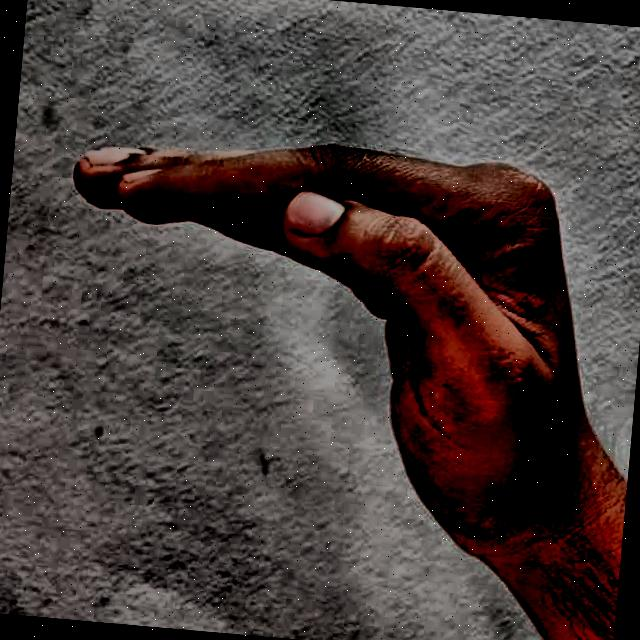Ga: (27, 88, 638, 594)
